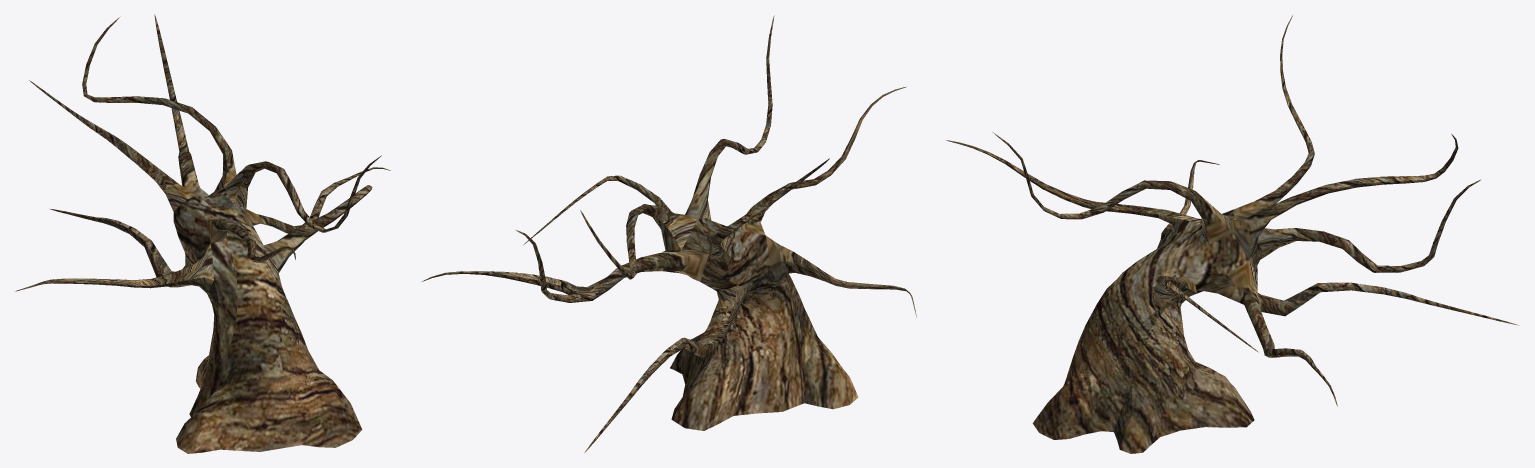
The model's file is Tree_noleaves.FBX.
The picture shows the model from 3 angles, left to right: view 1: azimuth 30°, elevation 25°; view 2: azimuth 150°, elevation 25°; view 3: azimuth 270°, elevation 25°; orthographic projection.
Visible parts, largest first — view 1: Pyramid007; view 2: Pyramid007; view 3: Pyramid007.
Part boxes in pixels (left/top/right/bottom): Pyramid007: left=15, top=14, right=390, bottom=453; Pyramid007: left=421, top=15, right=916, bottom=453; Pyramid007: left=946, top=15, right=1519, bottom=453.
Size of the model in its own units: 159 by 113 by 180.
1 material, 1 textured.
